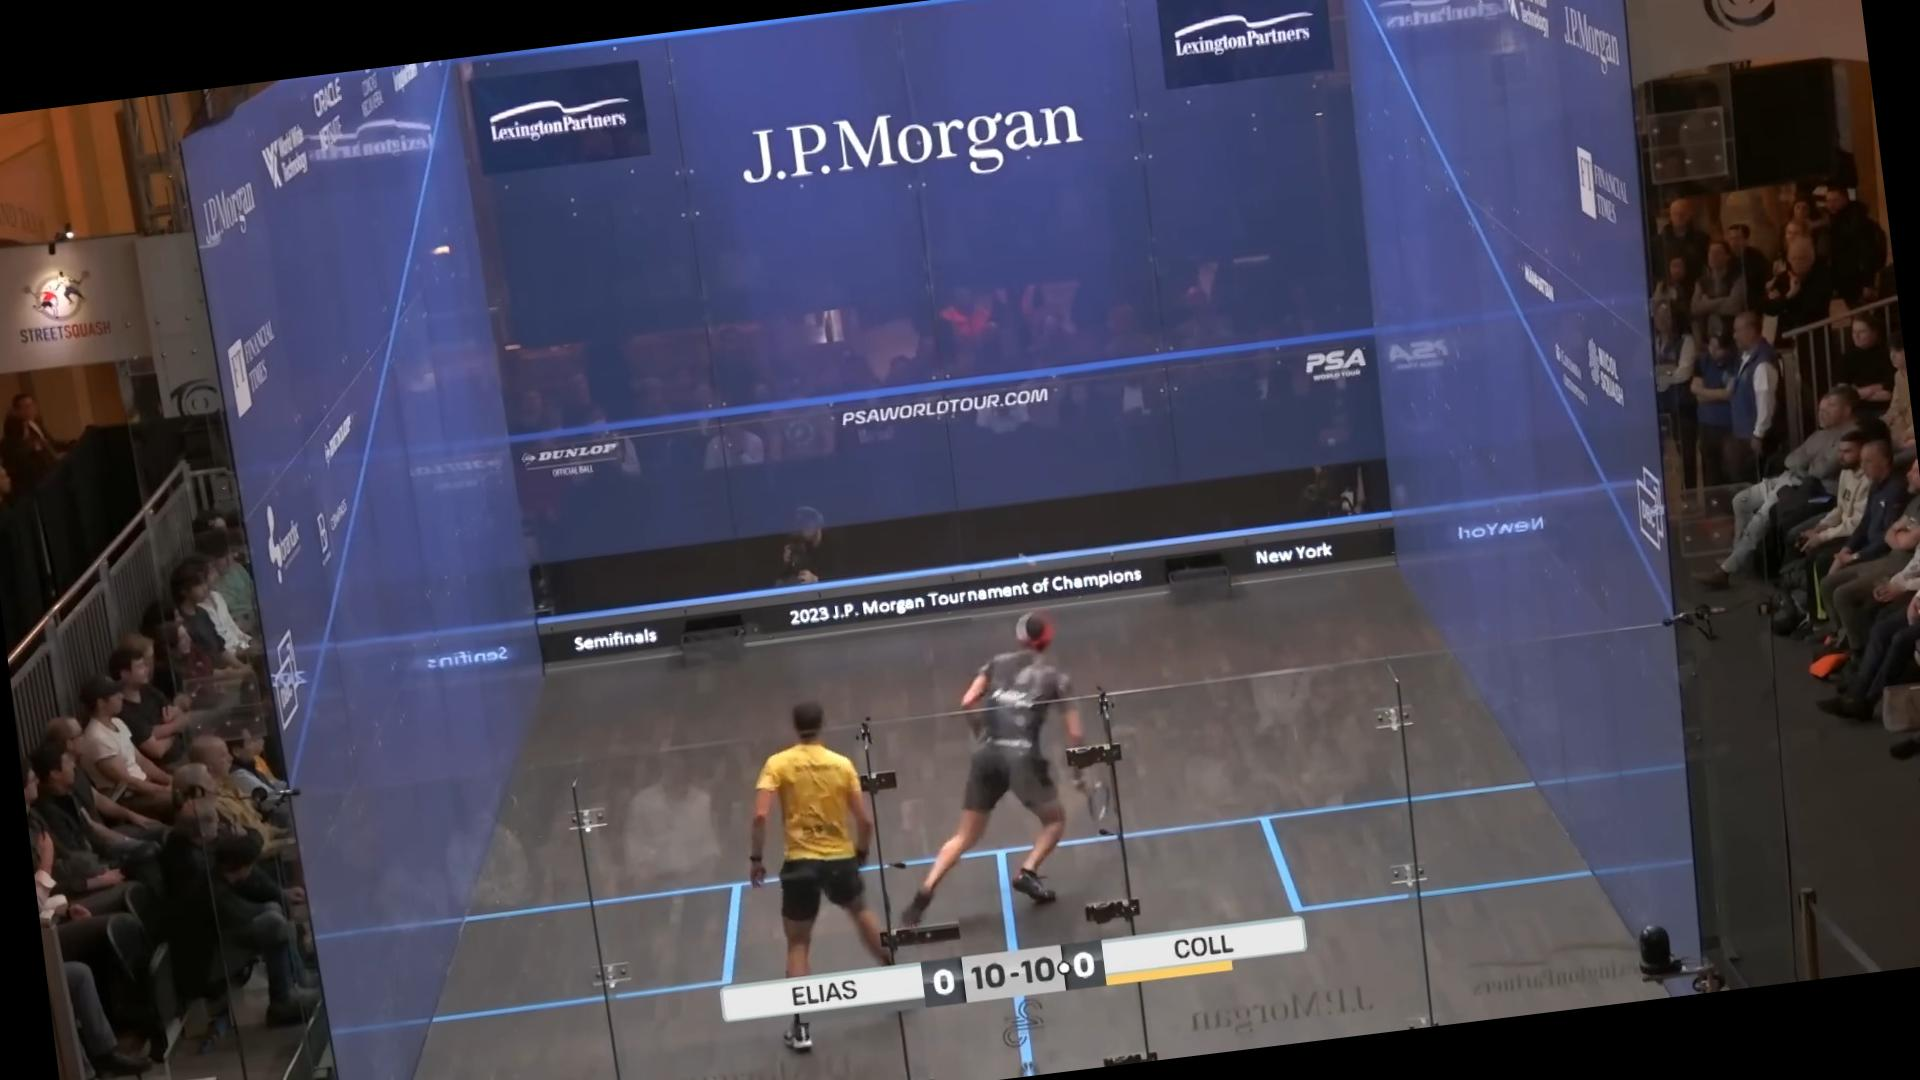Racket: (1075, 781, 1120, 827)
